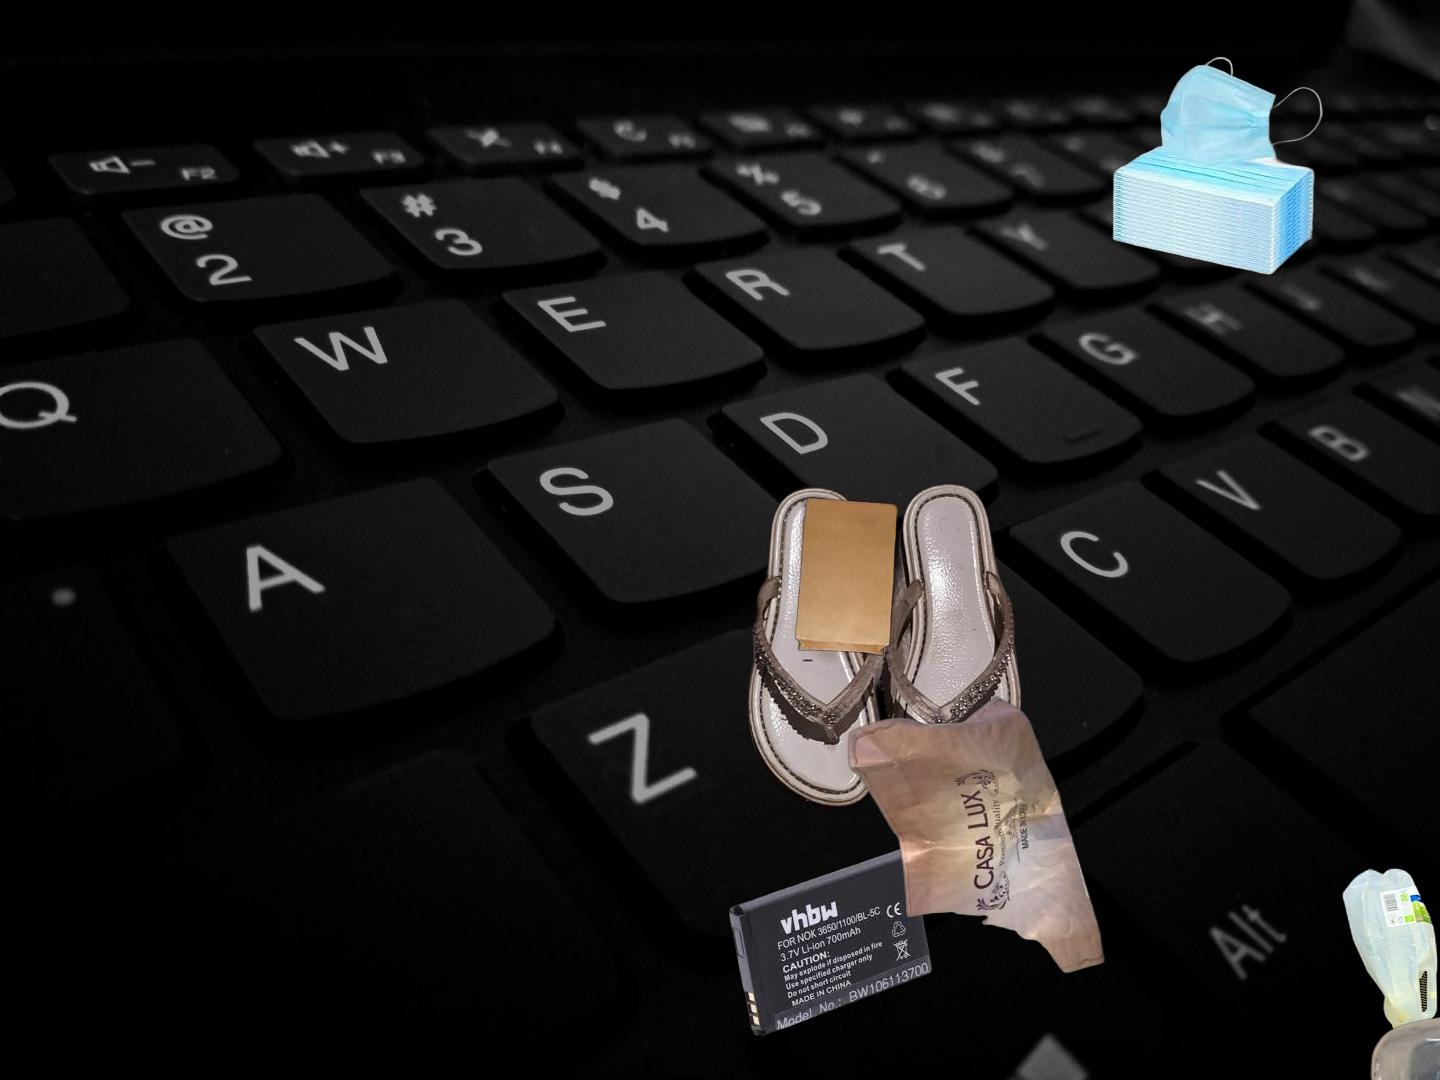battery: (726, 845, 935, 1039)
paper: (754, 693, 1108, 1026)
paper-bag: (782, 430, 955, 659)
plastic-bottles: (1338, 861, 1440, 1045), (1362, 989, 1440, 1080)
shoes: (744, 476, 1101, 819)
trash: (1109, 54, 1325, 278)
